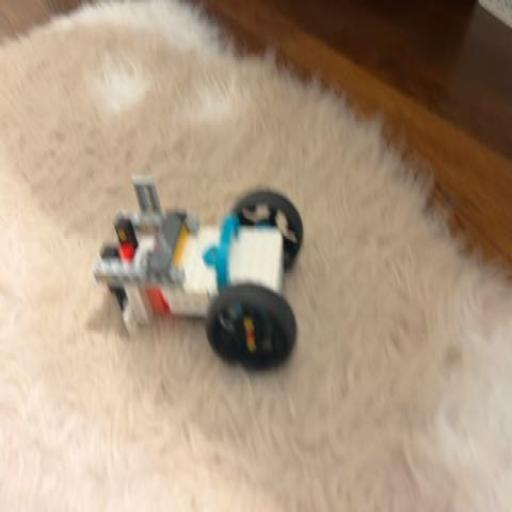Opponent: (92, 170, 306, 375)
